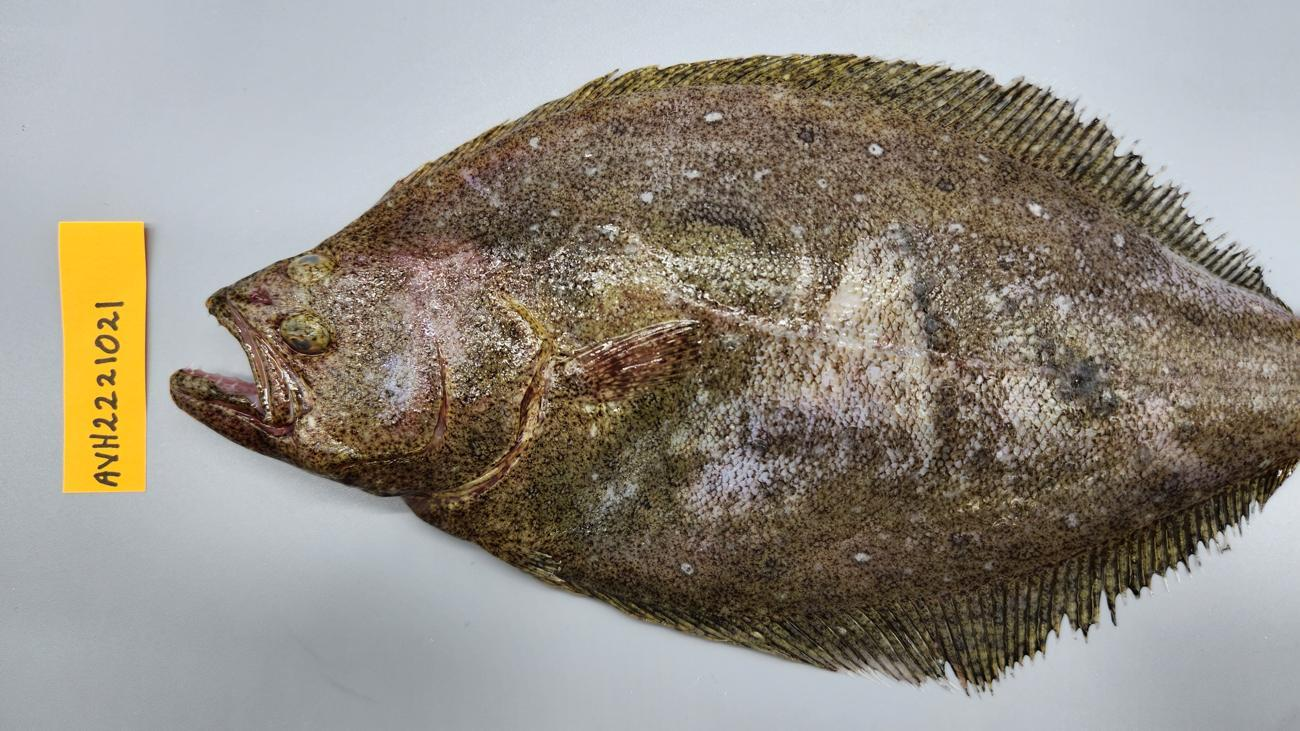VIDYH: (549, 319, 692, 416)
